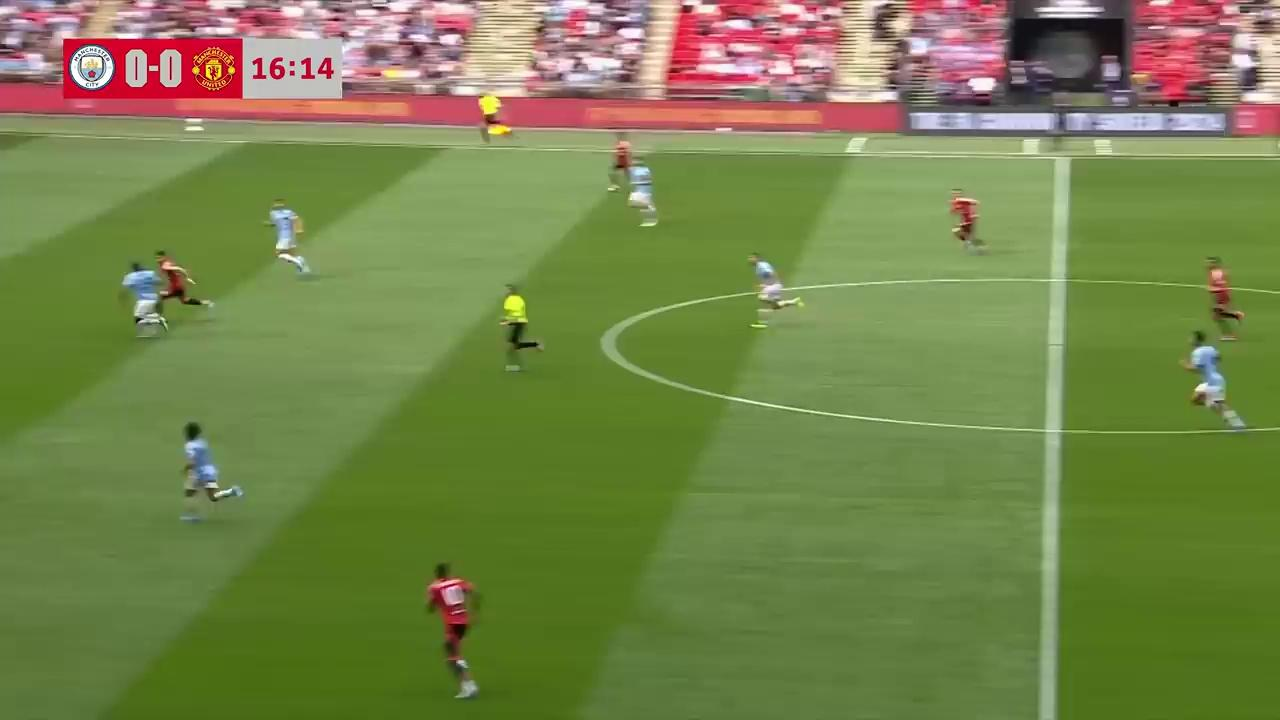player: (425, 562, 479, 699), (180, 420, 240, 521), (1179, 332, 1244, 422), (154, 249, 214, 324), (119, 260, 170, 338), (748, 254, 803, 326), (1205, 258, 1245, 339), (266, 199, 308, 270), (948, 189, 984, 251), (625, 159, 658, 226), (606, 137, 633, 192)
referee: (498, 284, 543, 372), (478, 90, 509, 145)
